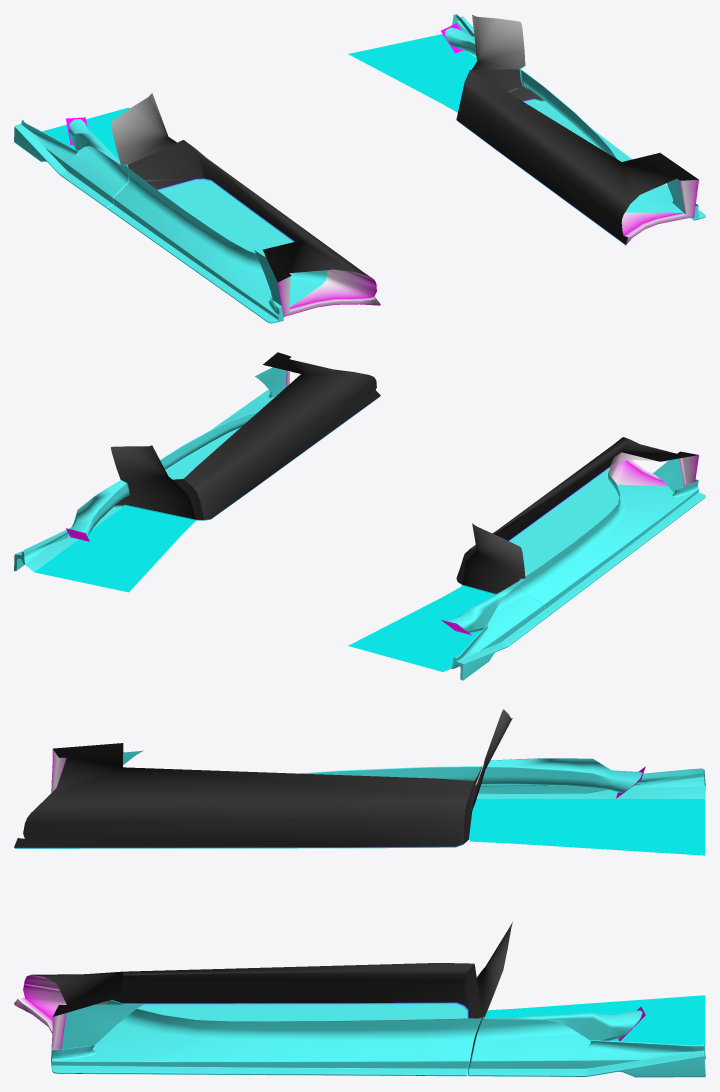
The model's file is Car_Ford_GT_2017_Skirts_SetB.fbx.
The picture shows the model from 3 angles, top to bottom: view 1: azimuth 30°, elevation 25°; view 2: azimuth 150°, elevation 25°; view 3: azimuth 270°, elevation 25°; orthographic projection. The views are drawn at different scales.
Parts seen in each view (by area): view 1: Skirts 6; view 2: Skirts 6; view 3: Skirts 6.
Boxes of the visible parts, x1=… form: Skirts 6: x1=14, y1=14, x2=705, y2=323; Skirts 6: x1=14, y1=352, x2=705, y2=680; Skirts 6: x1=14, y1=709, x2=705, y2=1077.
Bounding box in the file's own units: 1.99 × 0.3728 × 2.03.
